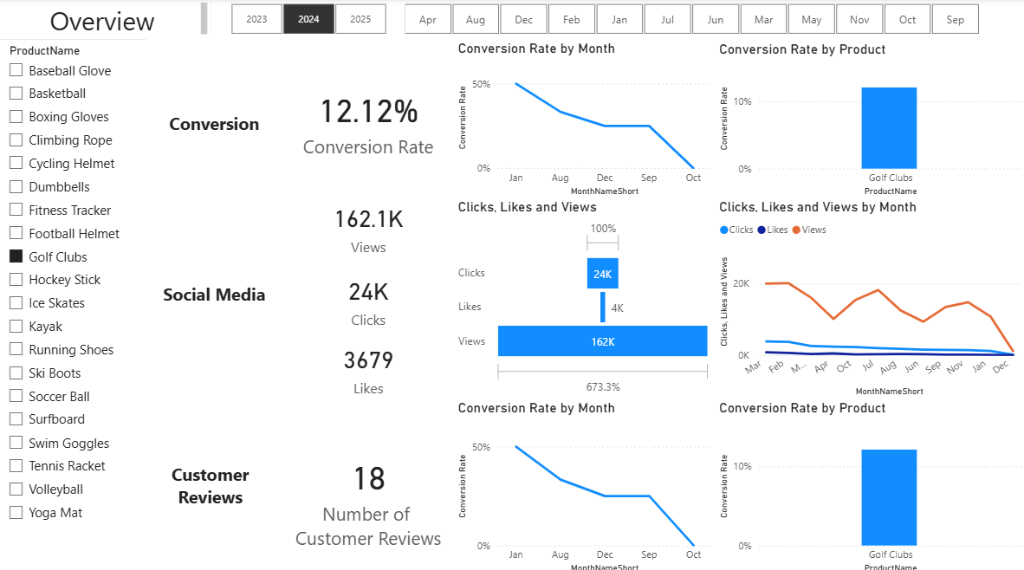

Layout of this report page (visuals, bound fields, positions):
{"tool":"powerbi","page":{"name":"Overview","canvas":[1280,720],"ordinal":0},"visuals":[{"type":"slicer","fields":{"Values":["Calendar.MonthNameShort"]},"box":[480,0,765.4,51],"z":0},{"type":"textbox","box":[0,0,264.6,51],"z":1000},{"type":"slicer","fields":{"Values":["products.ProductName"]},"box":[0,51,183.3,669],"z":2000},{"type":"textbox","box":[183.3,45.4,170.1,204.1],"z":3000},{"type":"textbox","box":[173.9,500.8,179.5,219.2],"z":4000},{"type":"textbox","box":[183.3,240,170.1,260.8],"z":5000},{"type":"card","fields":{"Values":["_Calculations.Conversion Rate"]},"box":[353.4,51,213.5,198.4],"z":6000},{"type":"card","fields":{"Values":["_Calculations.Views"]},"box":[353.4,240,213.5,88.8],"z":7000},{"type":"card","fields":{"Values":["_Calculations.Clicks"]},"box":[353.4,328.8,213.5,92.6],"z":8000},{"type":"card","fields":{"Values":["_Calculations.Likes"]},"box":[353.4,421.4,213.5,79.4],"z":9000},{"type":"card","fields":{"Values":["_Calculations.Number of Customer Reviews"]},"box":[353,498.7,213.7,220.2],"z":10000},{"type":"slicer","fields":{"Values":["Calendar.Year"]},"box":[264.6,0,241.9,51],"z":11000},{"type":"lineChart","title":"Conversion Rate by Month","fields":{"Category":["Calendar.MonthNameShort"],"Y":["_Calculations.Conversion Rate"]},"box":[566.9,51,325,198.4],"z":12000},{"type":"columnChart","title":"Conversion Rate by Product","fields":{"Y":["_Calculations.Conversion Rate"],"Category":["products.ProductName"]},"box":[892.2,53.4,387,197.5],"z":13000},{"type":"lineChart","title":"Clicks, Likes and Views by Month","fields":{"Category":["Calendar.MonthNameShort"],"Y":["_Calculations.Clicks","_Calculations.Likes","_Calculations.Views"]},"box":[892.2,249.4,387,251],"z":14000},{"type":"funnel","fields":{"Y":["_Calculations.Clicks","_Calculations.Likes","_Calculations.Views"]},"box":[566.7,249.4,325.5,251],"z":15000},{"type":"lineChart","title":"Conversion Rate by Month","fields":{"Category":["Calendar.MonthNameShort"],"Y":["_Calculations.Conversion Rate"]},"box":[566.7,500.3,325.5,220.2],"z":16000},{"type":"columnChart","title":"Conversion Rate by Product","fields":{"Y":["_Calculations.Conversion Rate"],"Category":["products.ProductName"]},"box":[892.2,500.3,387,220.2],"z":17000}]}

Visuals, with their boxes in screenshot pixels (x1, y1, x2, y2), scaled from the page's 1280x720 canvas onto the 1024x570 screenshot:
slicer - Calendar.MonthNameShort: bbox(384, 0, 996, 40)
textbox: bbox(0, 0, 212, 40)
slicer - products.ProductName: bbox(0, 40, 147, 569)
textbox: bbox(147, 36, 283, 198)
textbox: bbox(139, 396, 283, 569)
textbox: bbox(147, 190, 283, 396)
card - _Calculations.Conversion Rate: bbox(283, 40, 454, 197)
card - _Calculations.Views: bbox(283, 190, 454, 260)
card - _Calculations.Clicks: bbox(283, 260, 454, 334)
card - _Calculations.Likes: bbox(283, 334, 454, 396)
card - _Calculations.Number of Customer Reviews: bbox(282, 395, 453, 569)
slicer - Calendar.Year: bbox(212, 0, 405, 40)
"Conversion Rate by Month" lineChart: bbox(454, 40, 714, 197)
"Conversion Rate by Product" columnChart: bbox(714, 42, 1023, 199)
"Clicks, Likes and Views by Month" lineChart: bbox(714, 197, 1023, 396)
funnel - _Calculations.Clicks x _Calculations.Likes: bbox(453, 197, 714, 396)
"Conversion Rate by Month" lineChart: bbox(453, 396, 714, 569)
"Conversion Rate by Product" columnChart: bbox(714, 396, 1023, 569)
